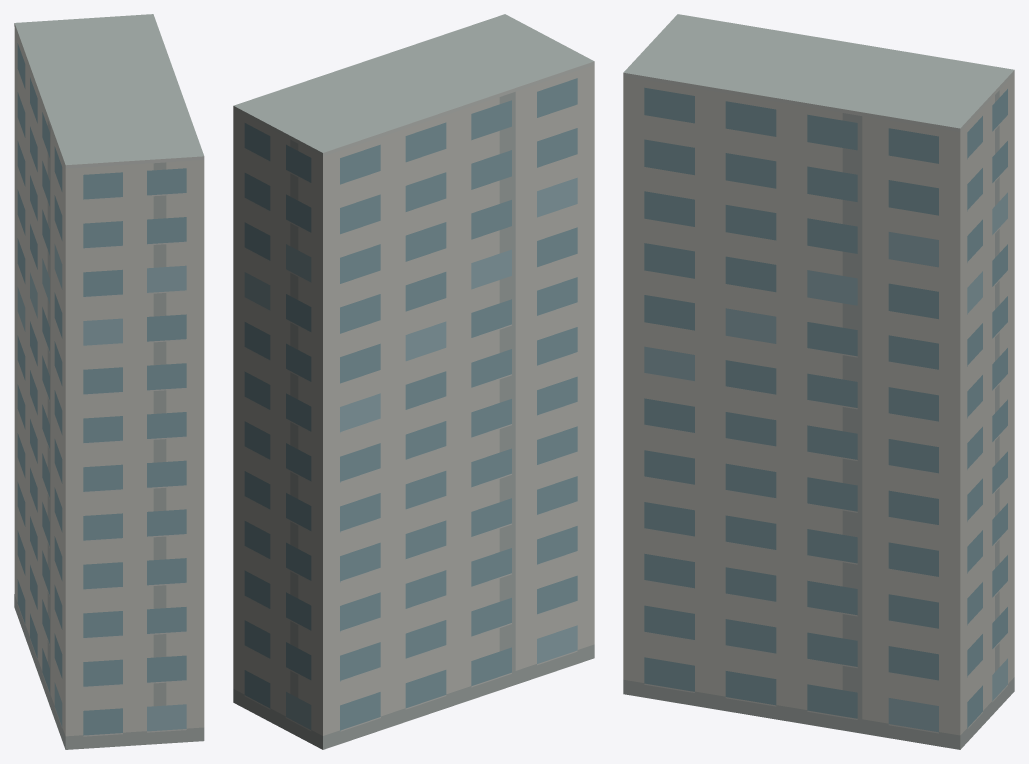
Rendered from residential-6dd3d4b1-c64e-4905-9f19-a82f17ef784f.glb.
3 renders of one model, left to right at view 1: azimuth 30°, elevation 25°; view 2: azimuth 150°, elevation 25°; view 3: azimuth 270°, elevation 25°, orthographic. The views are drawn at different scales.
Visible parts, largest first — view 1: residential-6dd3d4b1-c64e-4905-9f19-a82f17ef784f.tmp; view 2: residential-6dd3d4b1-c64e-4905-9f19-a82f17ef784f.tmp; view 3: residential-6dd3d4b1-c64e-4905-9f19-a82f17ef784f.tmp.
Boxes of the visible parts, x1=… form: residential-6dd3d4b1-c64e-4905-9f19-a82f17ef784f.tmp: x1=14, y1=14, x2=204, y2=749; residential-6dd3d4b1-c64e-4905-9f19-a82f17ef784f.tmp: x1=233, y1=14, x2=594, y2=749; residential-6dd3d4b1-c64e-4905-9f19-a82f17ef784f.tmp: x1=623, y1=14, x2=1014, y2=749.
Bounding box in the file's own units: 15.42 × 39 × 22.28.
